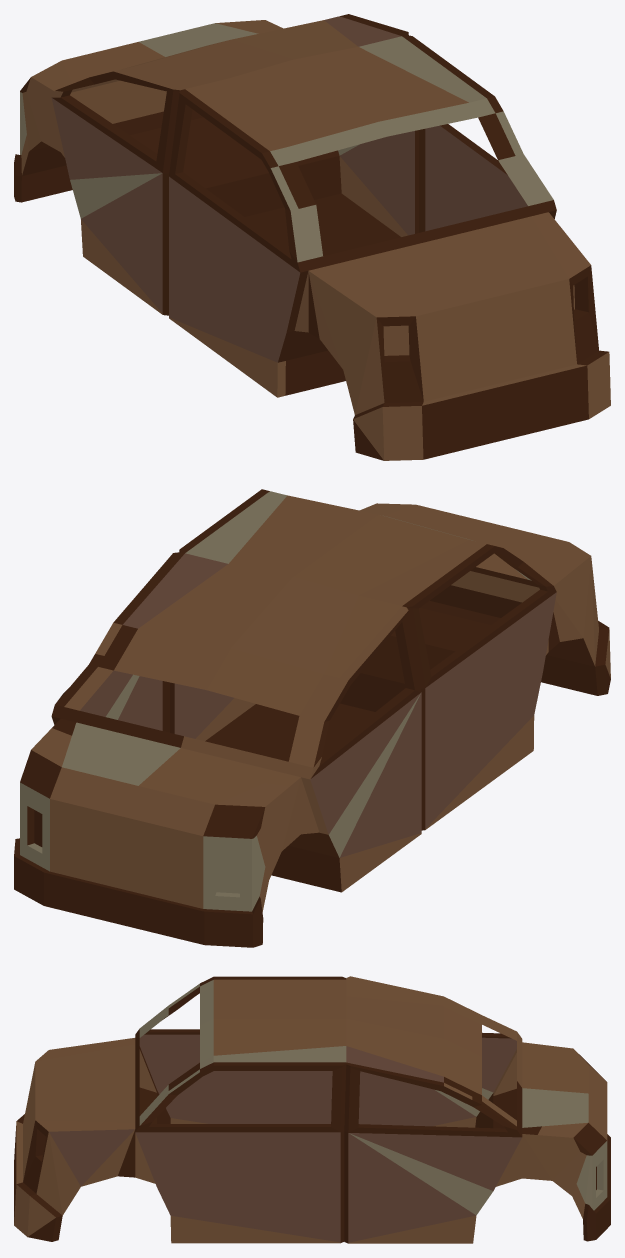
The model's file is BurntCar3.gltf.
3 renders of one model, top to bottom at view 1: azimuth 30°, elevation 25°; view 2: azimuth 150°, elevation 25°; view 3: azimuth 270°, elevation 25°, orthographic. The views are drawn at different scales.
Parts seen in each view (by area): view 1: Car_3; view 2: Car_3; view 3: Car_3.
Boxes of the visible parts, x1,y1,x2,y2 form: Car_3: [14, 14, 610, 460]; Car_3: [14, 489, 610, 947]; Car_3: [14, 976, 610, 1243].
Bounding box in the file's own units: 4.07 × 3.38 × 10.41.
